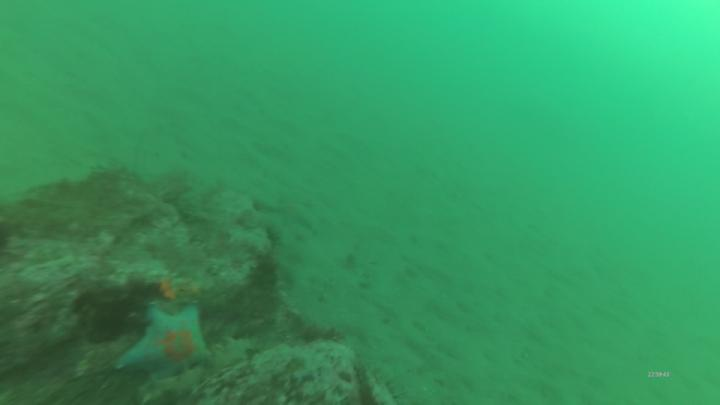holothurian: (364, 365, 401, 405)
starfish: (114, 307, 211, 382)
